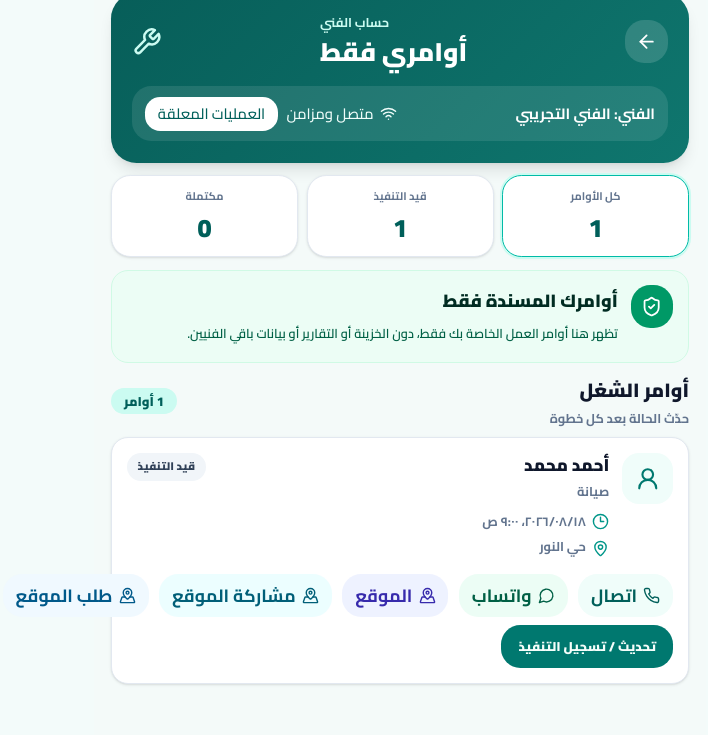
واجهة الفني وأوامر العمل › تسمح بالاختيارات السريعة للنتيجة والتحصيل
The width and height of the screenshot is (708, 735).
Click the button "تحديث / تسجيل التنفيذ" at (587, 646), box [501,625,673,668]
(page scrolled)
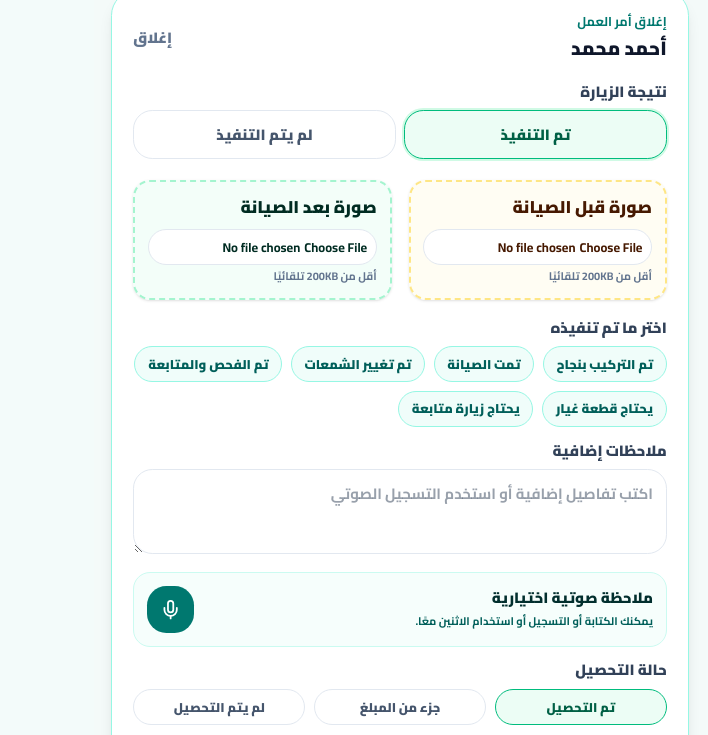
Click the button "تمت الصيانة" at (484, 364), box [434,346,534,382]
(page scrolled)
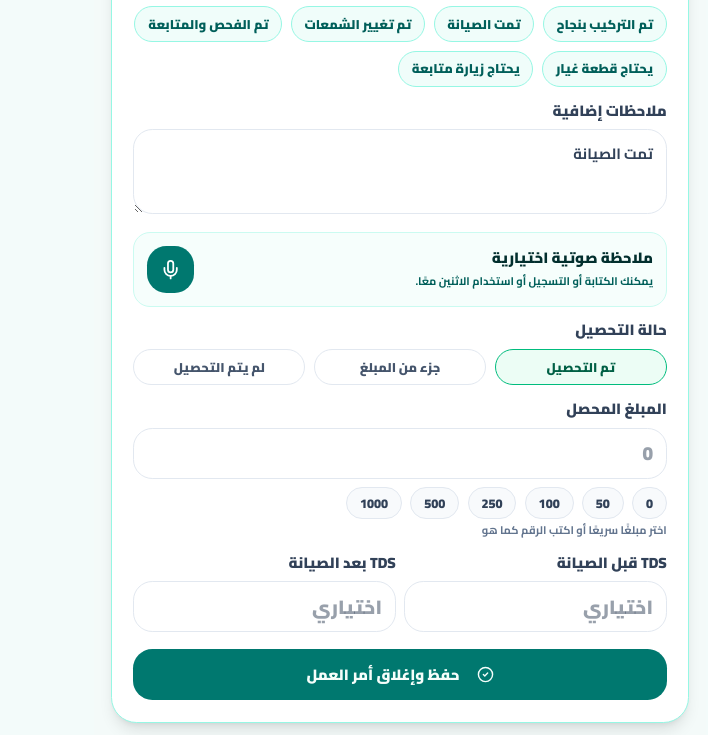
Click the button "250" at (492, 503), box [468,487,516,519]
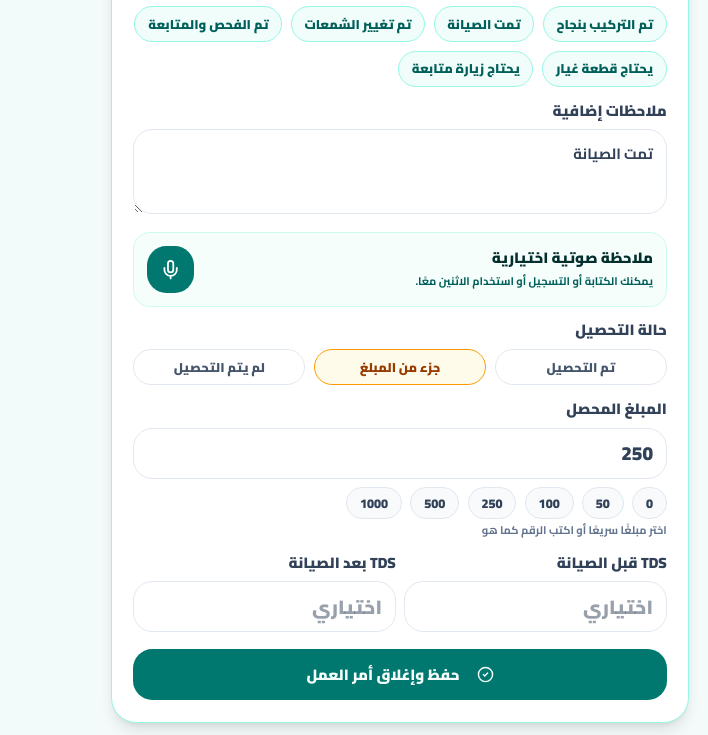
Result: the text box named "ما تم تنفيذه" holds "تمت الصيانة" at [133,129,667,214]
Result: the field labelled "المبلغ المحصل" holds "250" at [133,428,667,479]
